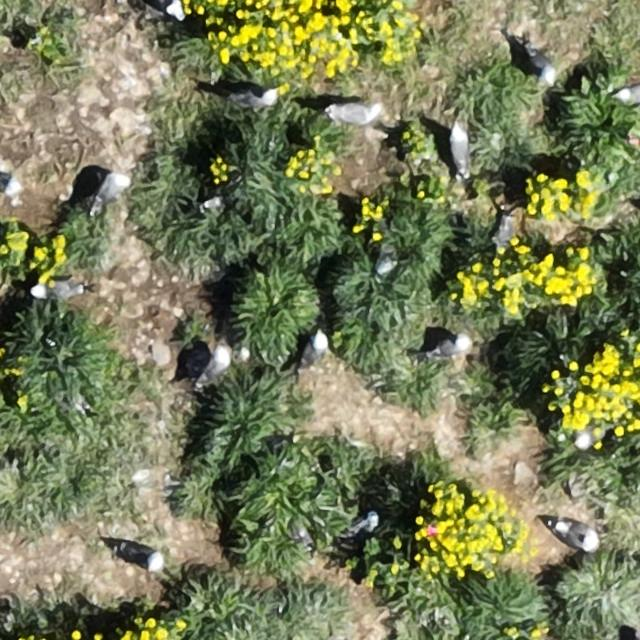umineko: (116, 544, 162, 569), (555, 524, 595, 550), (331, 104, 378, 126), (528, 47, 556, 83), (96, 174, 127, 205), (202, 350, 229, 382), (449, 126, 468, 171), (301, 332, 326, 366), (493, 215, 512, 256), (431, 336, 468, 356), (235, 89, 274, 107), (349, 512, 378, 534), (35, 281, 73, 297), (575, 425, 602, 447), (157, 0, 183, 18), (617, 83, 640, 103)
